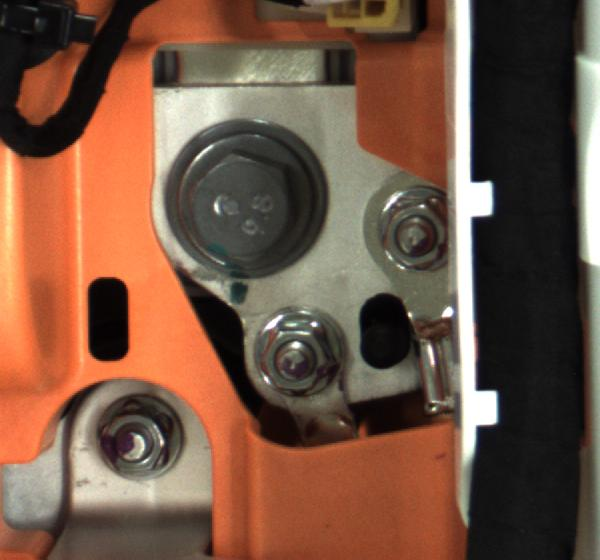nut_b: (161, 112, 330, 282)
screw_s: (366, 194, 476, 286), (92, 398, 206, 481), (258, 300, 350, 399)
